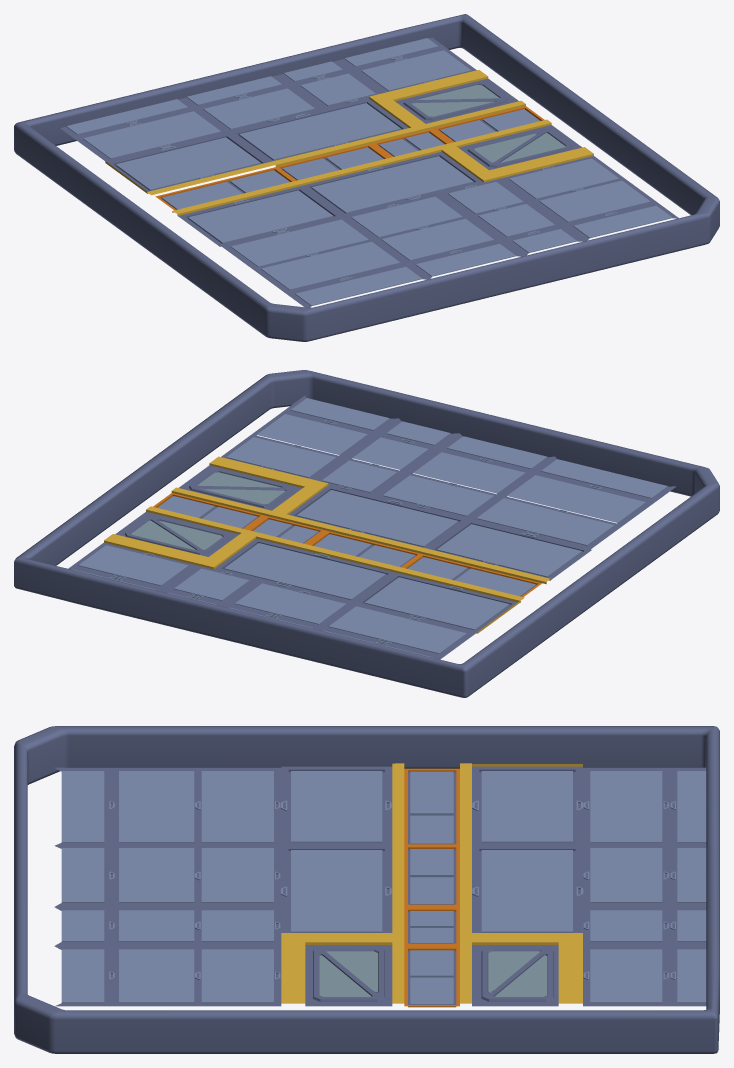
Rendered from Ground.fbx.
The picture shows the model from 3 angles, top to bottom: view 1: azimuth 30°, elevation 25°; view 2: azimuth 150°, elevation 25°; view 3: azimuth 270°, elevation 25°; orthographic projection. The views are drawn at different scales.
Visible parts, largest first — view 1: Ground; view 2: Ground; view 3: Ground.
Boxes of the visible parts, box(x1,y1,x2,y2) form: Ground: box(14, 14, 719, 341); Ground: box(14, 370, 719, 697); Ground: box(14, 726, 719, 1053).
Bounding box in the file's own units: 5612 × 366 × 5750.
